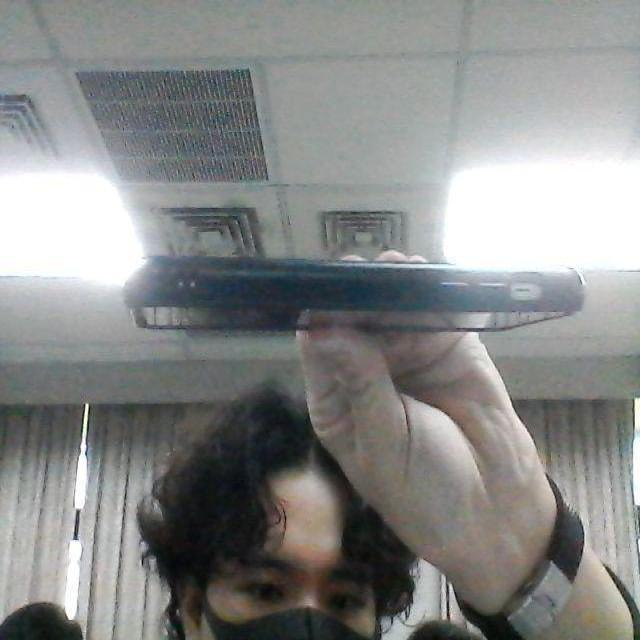smart phone: (107, 240, 598, 367)
